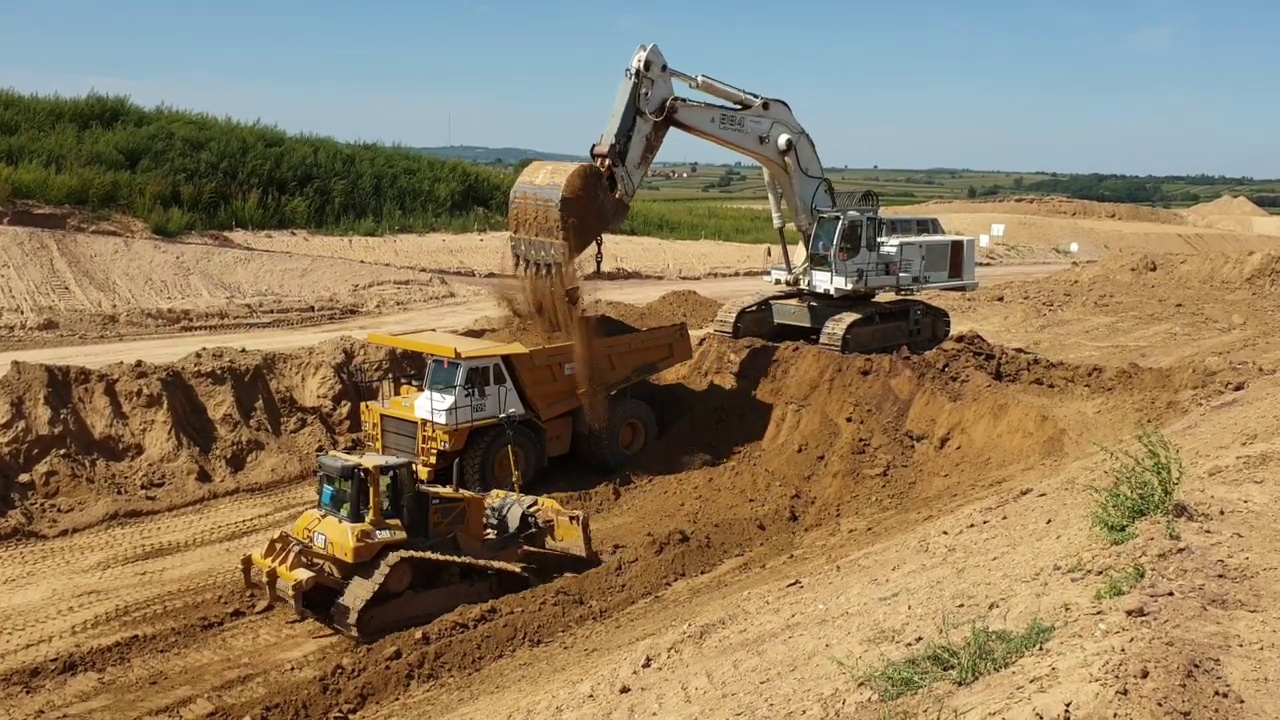bulldozer: (236, 409, 605, 651)
excavator: (498, 34, 983, 358)
truck: (346, 307, 699, 509)
